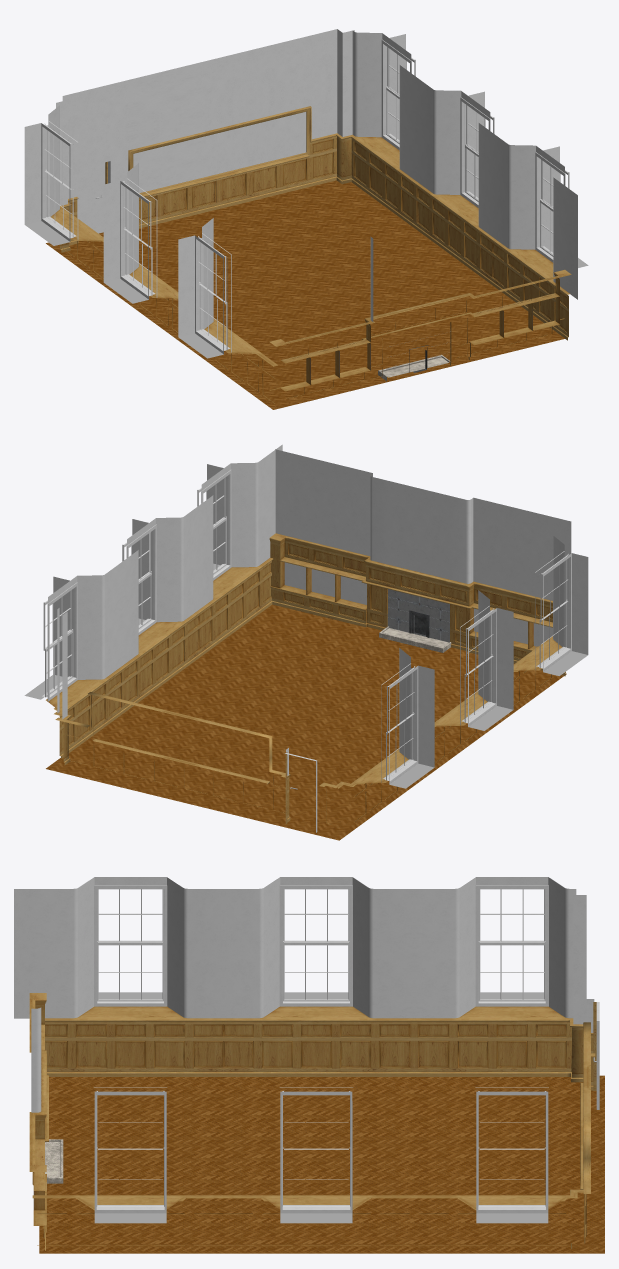
Rendered from RoomBake_NoLights.gltf.
The picture shows the model from 3 angles, top to bottom: view 1: azimuth 30°, elevation 25°; view 2: azimuth 150°, elevation 25°; view 3: azimuth 270°, elevation 25°; orthographic projection. The views are drawn at different scales.
Parts seen in each view (by area): view 1: Final Room; view 2: Final Room; view 3: Final Room.
Boxes of the visible parts, x1,y1,x2,y2 form: Final Room: (24,29,588,409); Final Room: (24,444,588,840); Final Room: (14,877,604,1253).
Bounding box in the file's own units: 10.75 × 4.06 × 11.62.
Materials: 4 (4 with a texture image).
